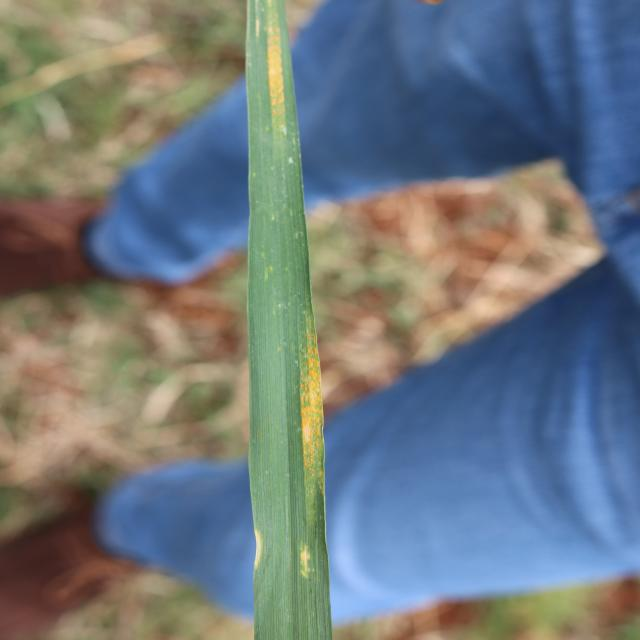Stripe Rust: (292, 332, 325, 498), (263, 14, 288, 133), (250, 522, 270, 576), (296, 543, 310, 587)
